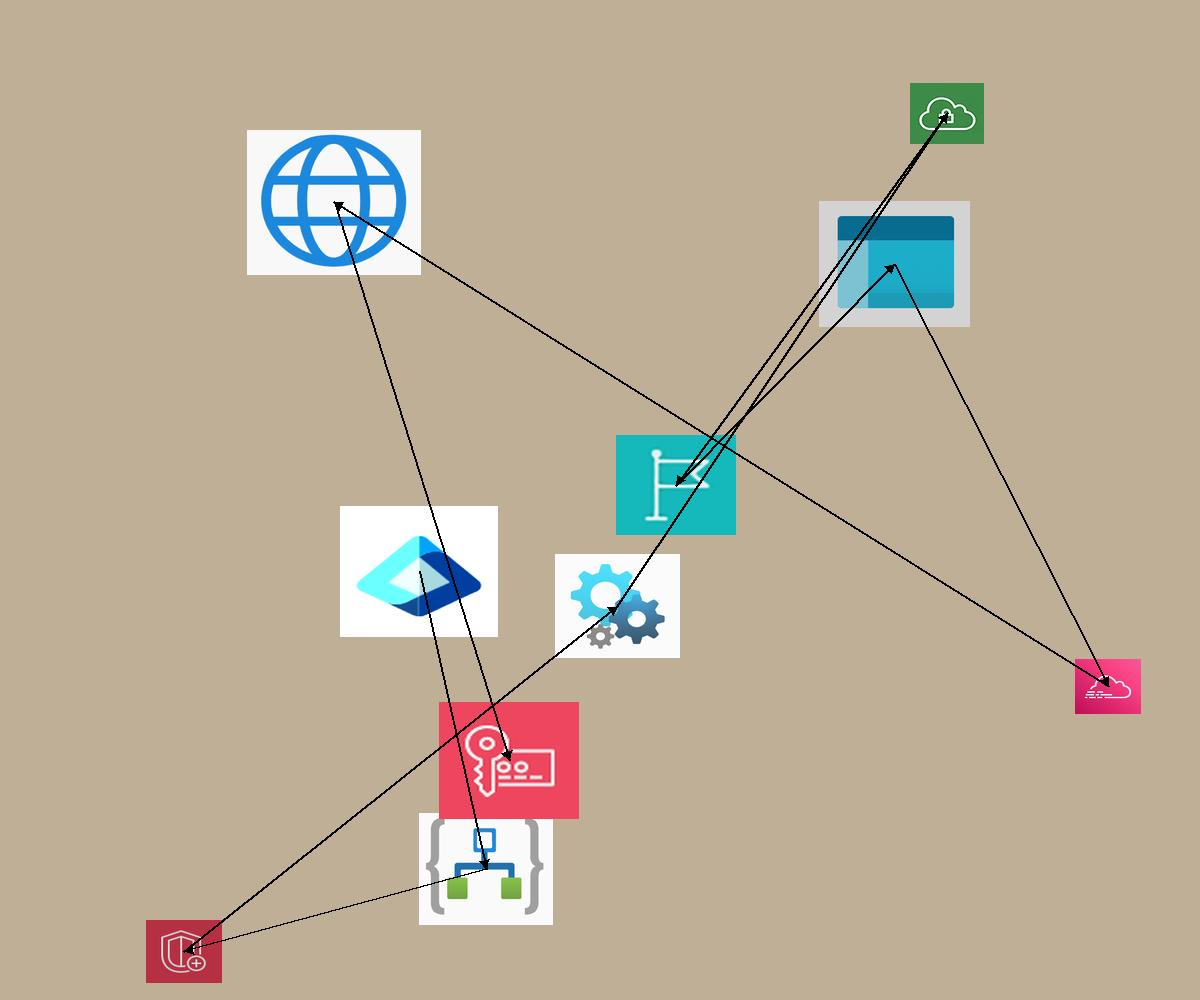AWS-CloudTrail: (1075, 659, 1141, 714)
AWS-Key-Management-Service: (439, 702, 579, 819)
AWS-Private_vpc: (910, 83, 984, 144)
AWS-Region: (616, 435, 736, 535)
AWS-Shield: (146, 920, 222, 983)
Azure_api: (555, 554, 680, 658)
Azure_http: (247, 130, 421, 275)
Azure_integration-204-Logic-Apps: (419, 813, 553, 925)
Azure_management-portal: (819, 201, 970, 327)
Azure_microsoft_entra: (340, 506, 498, 637)
